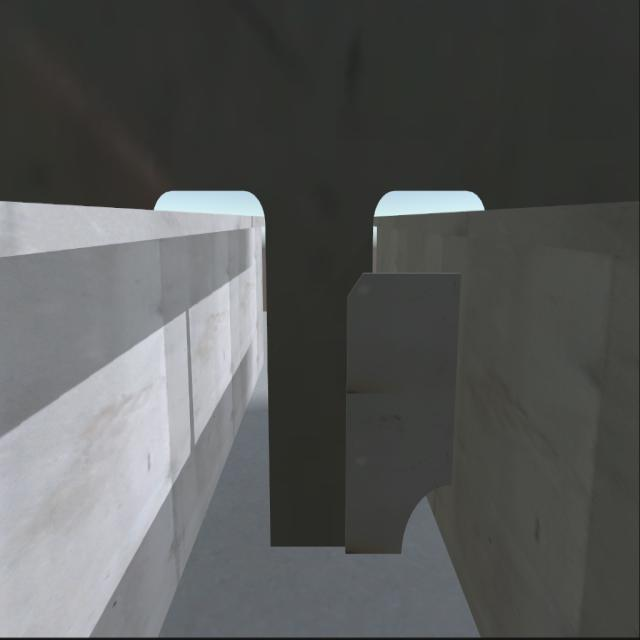fillet_hole: (396, 483, 452, 551)
fillet_yong_jeop_jang: (264, 540, 404, 566)
longi_yong_jeop_jang: (442, 268, 468, 488)
plate_CP03: (344, 271, 462, 557)
